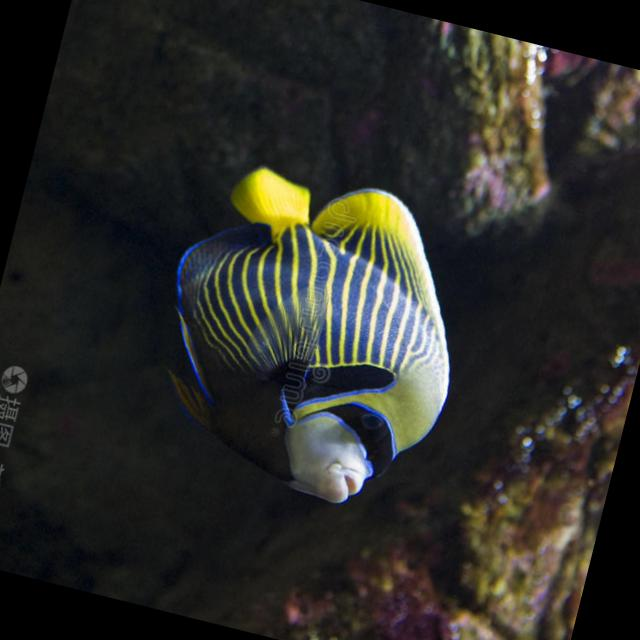AngelFish: (108, 138, 492, 524)
